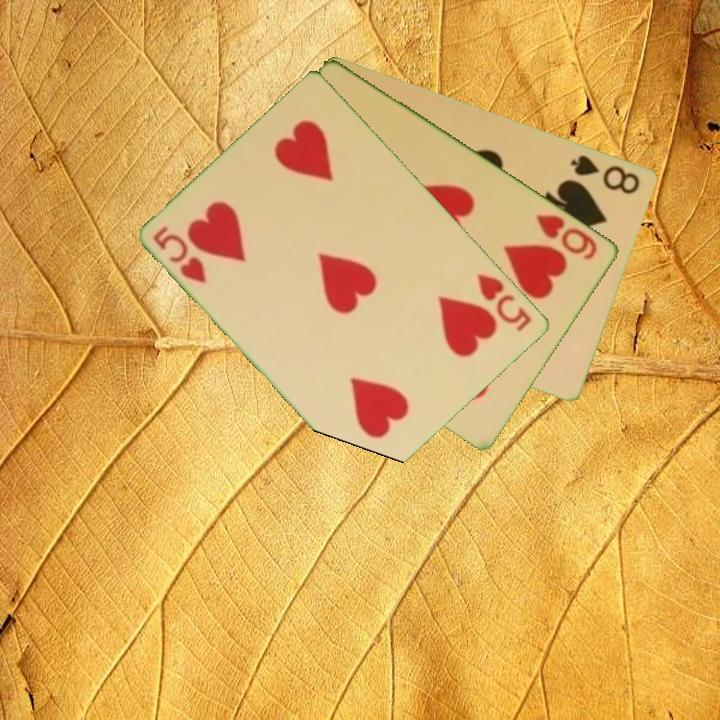5h: (474, 270, 535, 335), (150, 222, 211, 286)
6h: (533, 210, 601, 263)
8s: (567, 151, 644, 197)
